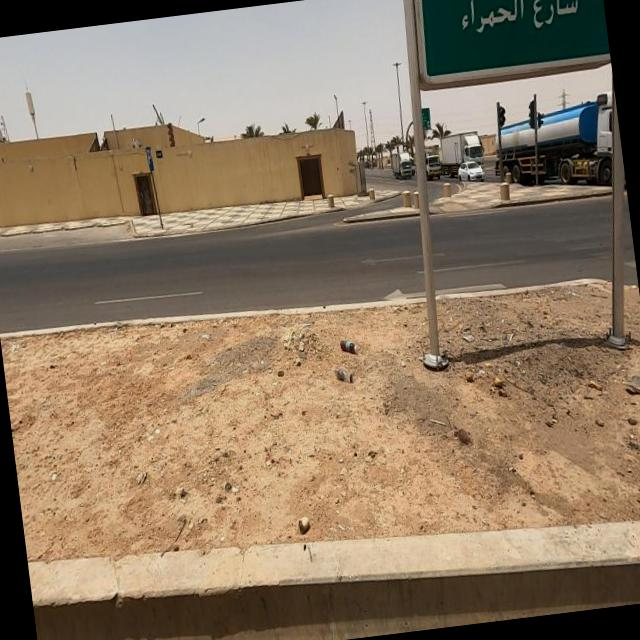debris: (424, 318, 548, 440), (303, 320, 379, 426), (306, 300, 381, 380), (422, 395, 493, 478), (264, 479, 330, 559)
